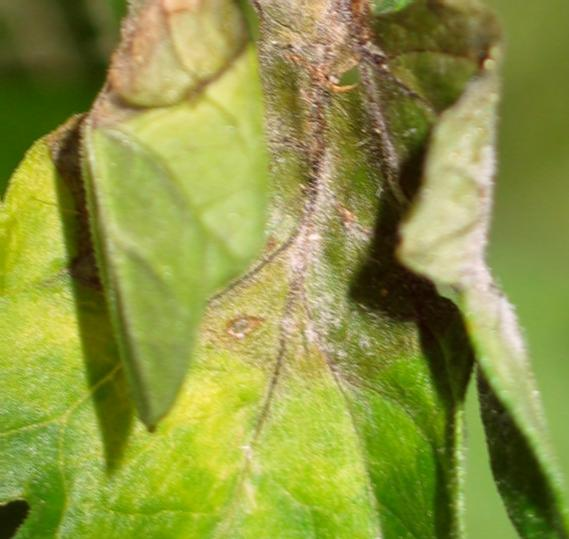Tomato leaf late blight: (0, 0, 565, 539)
